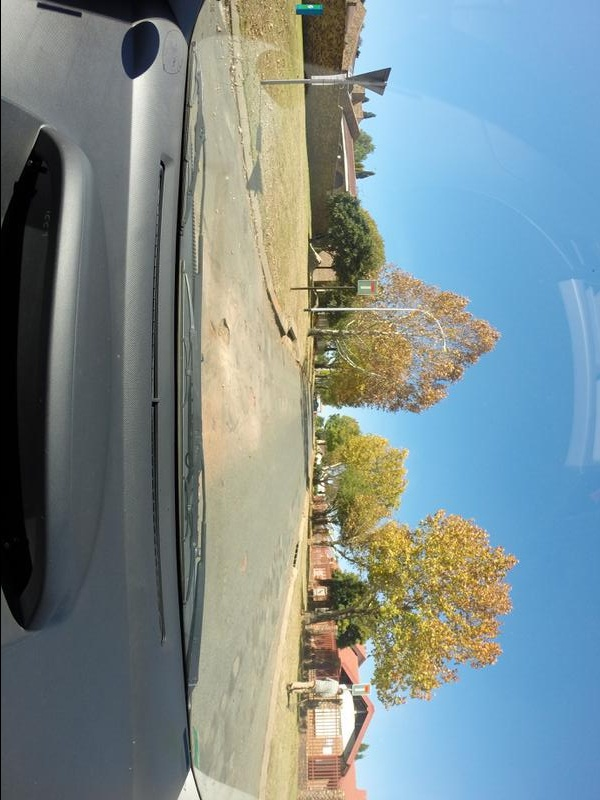pothole: (211, 318, 240, 343), (244, 382, 263, 419)
